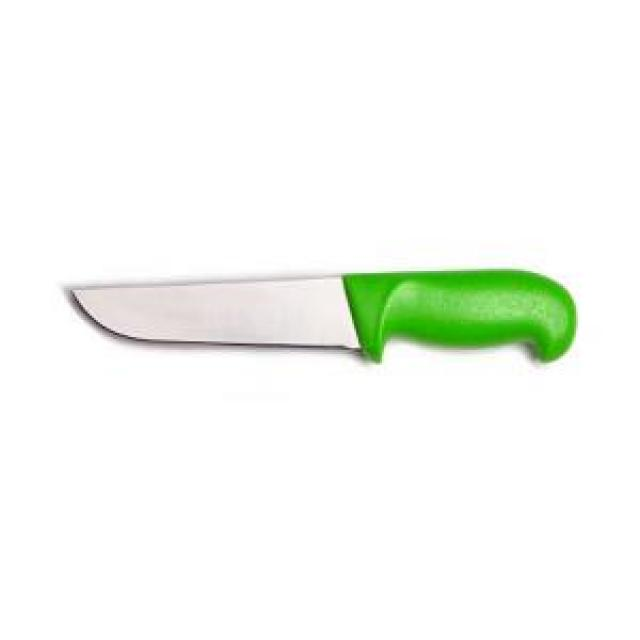knife: (68, 266, 585, 381)
